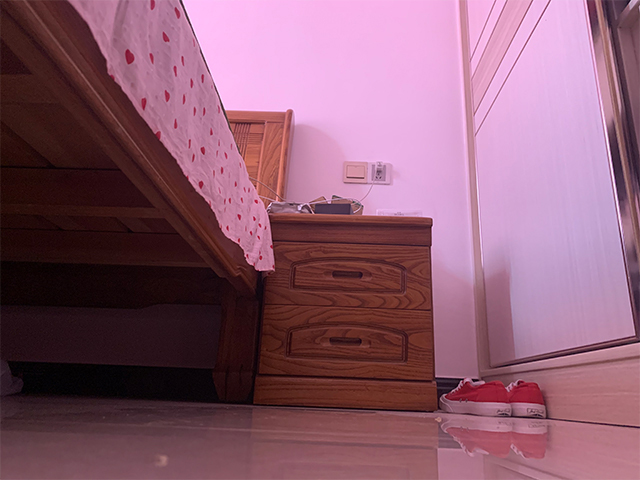bed: (1, 1, 295, 405)
cabinet: (458, 1, 639, 429), (253, 210, 442, 414)
